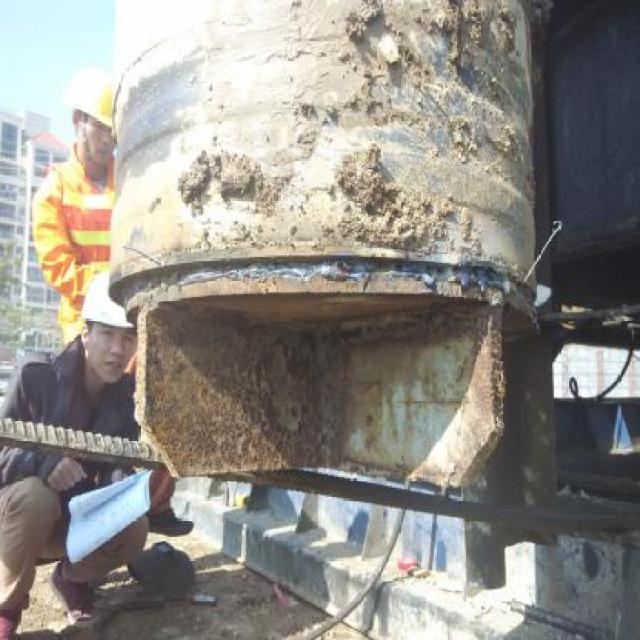Vest: (32, 143, 117, 345)
helmet: (78, 269, 136, 328), (66, 68, 120, 131)
person: (0, 271, 149, 640), (32, 57, 117, 334)
